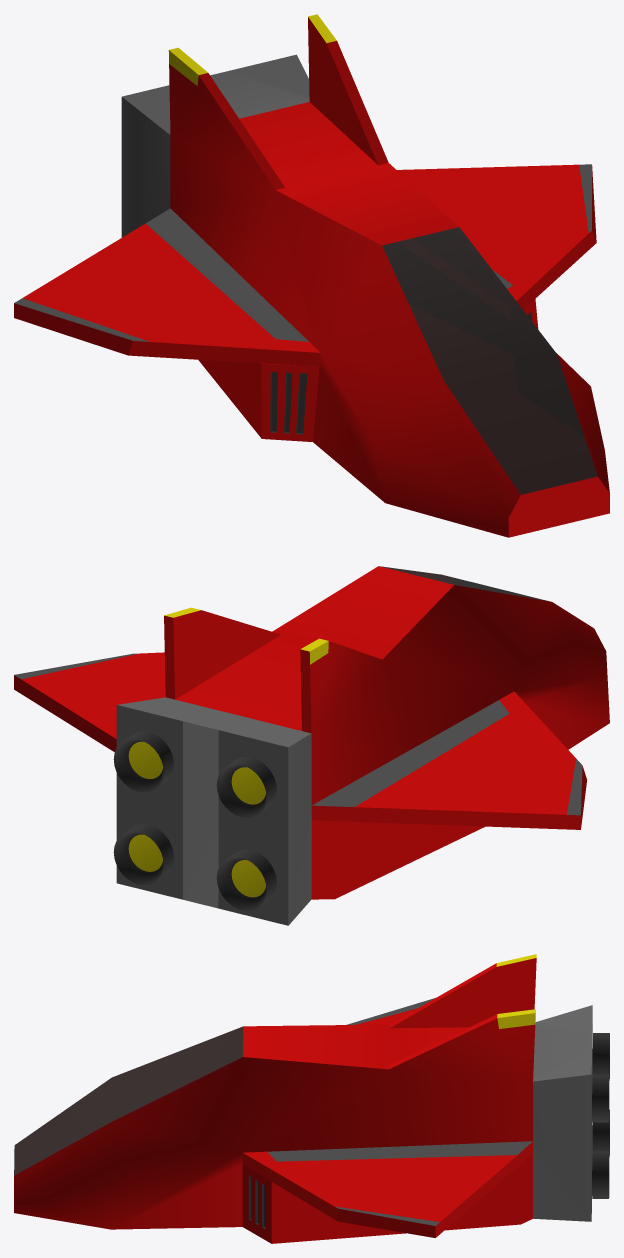
Rendered from PlayerShip.fbx.
3 renders of one model, top to bottom at view 1: azimuth 30°, elevation 25°; view 2: azimuth 150°, elevation 25°; view 3: azimuth 270°, elevation 25°, orthographic. The views are drawn at different scales.
Parts seen in each view (by area): view 1: Players_Ship; view 2: Players_Ship; view 3: Players_Ship.
Part boxes in pixels (x1,y1,x2,y2): Players_Ship: [14, 14, 609, 537]; Players_Ship: [14, 566, 609, 925]; Players_Ship: [14, 954, 609, 1243].
Size of the model in its own units: 389 by 167 by 427.
